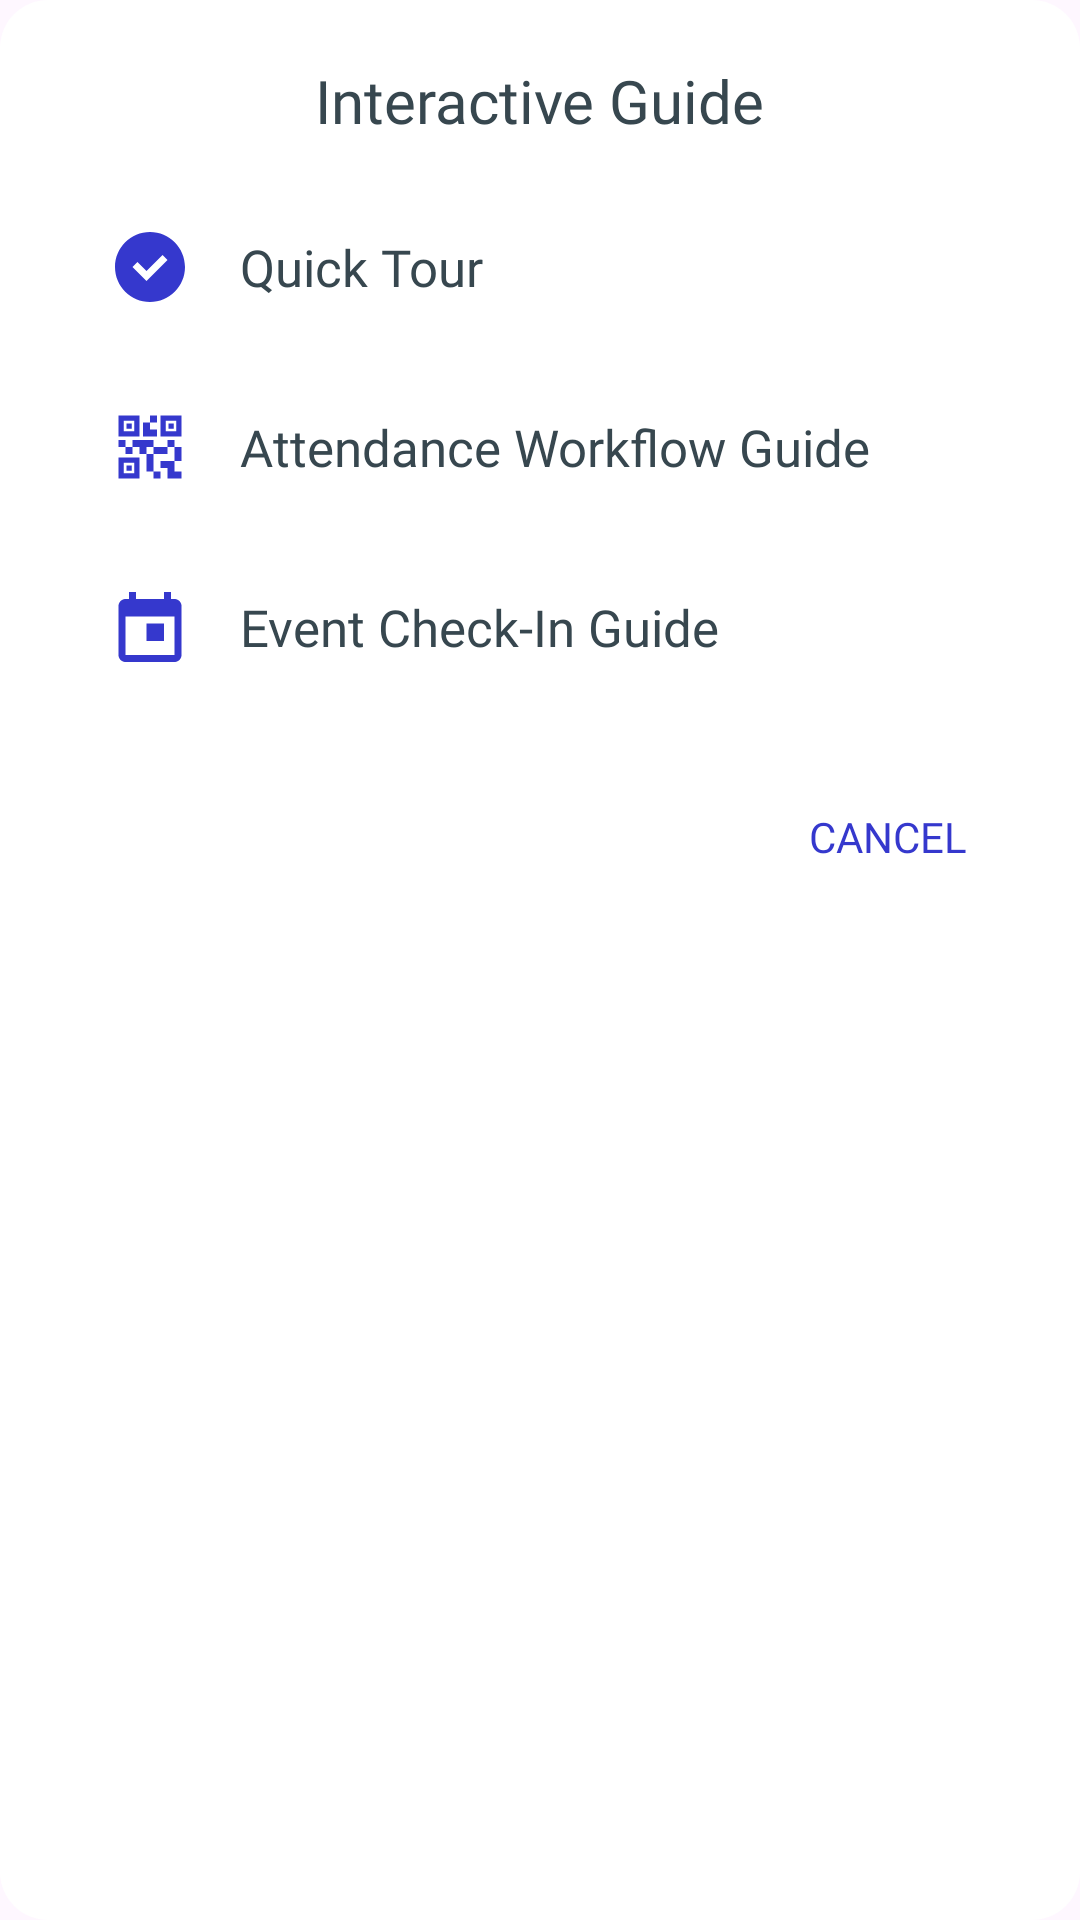

Named icons in this screenshot (1080px x 1920px) and their centers, (x=x, y=y):
qr scanner: (x=150, y=447)
